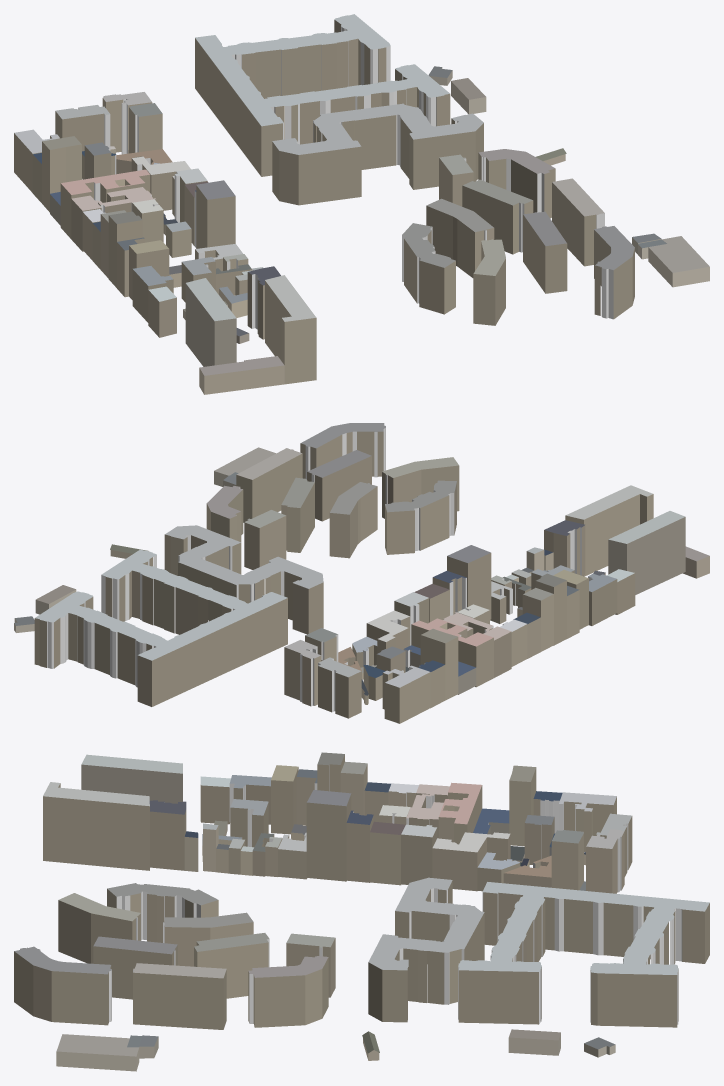
3 renders of one model, top to bottom at view 1: azimuth 30°, elevation 25°; view 2: azimuth 150°, elevation 25°; view 3: azimuth 270°, elevation 25°, orthographic. The views are drawn at different scales.
Parts seen in each view (by area): view 1: tuile; view 2: tuile; view 3: tuile.
Part boxes in pixels (<box>): tuile: <box>14,14,709,394</box>; tuile: <box>14,423,709,723</box>; tuile: <box>14,752,709,1071</box>.
Bounding box in the file's own units: 268 × 41.53 × 306.
